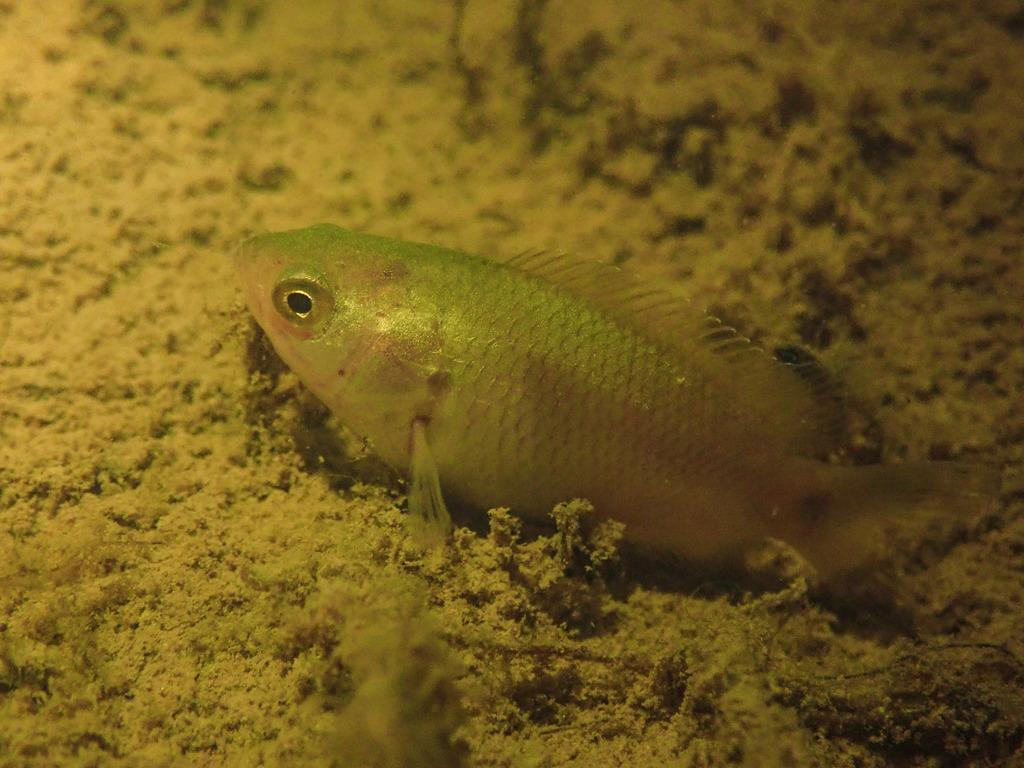Climbing Perch: (229, 222, 1002, 616)
